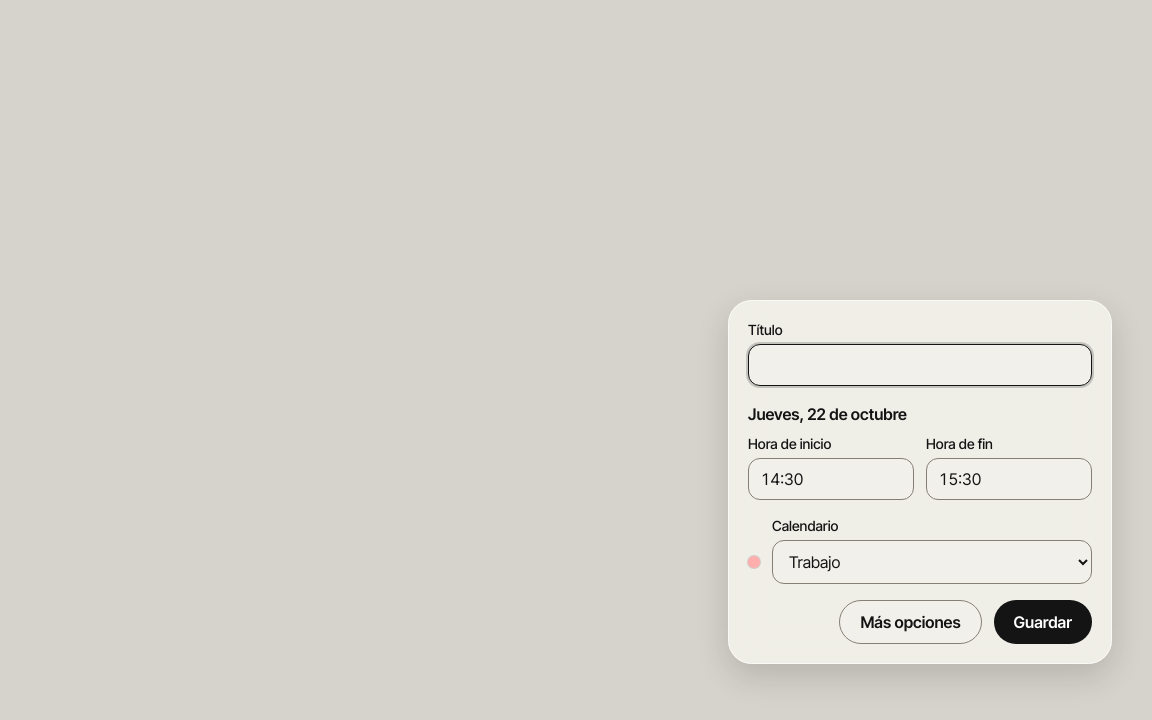
Scenario: QuickCreate › stays open with the error when saving fails (RF-9)
Click the button "Guardar" at (1043, 622), box top-left (994, 600), bottom-right (1092, 644)
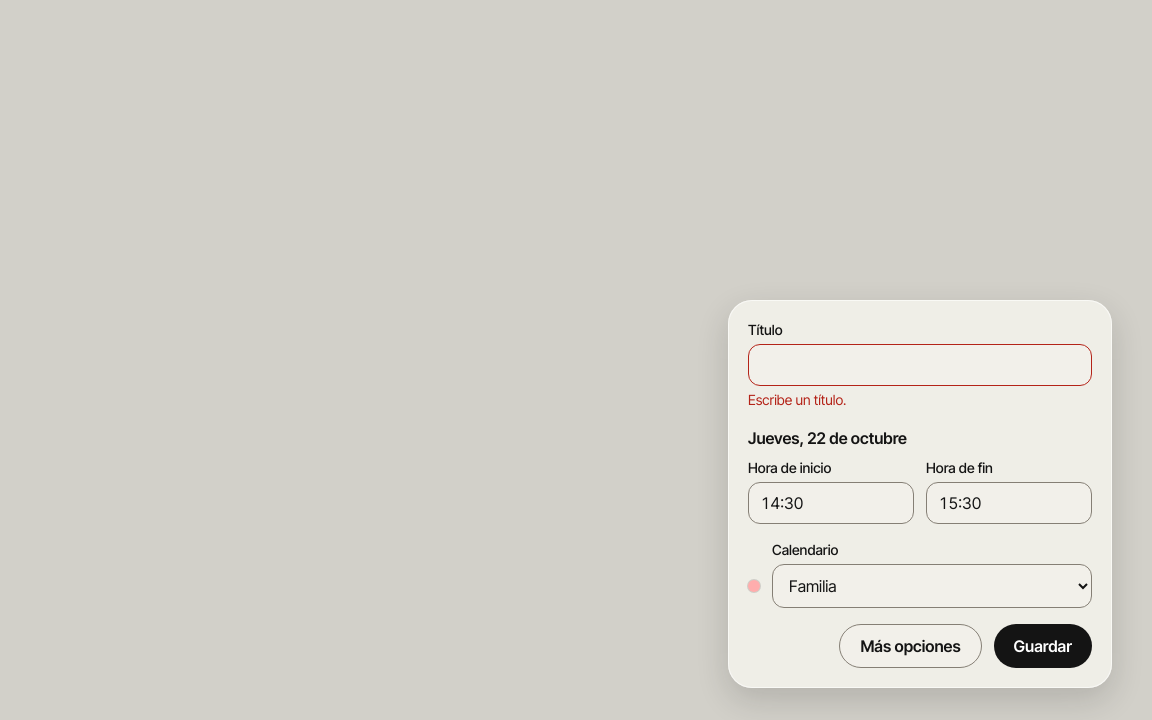
Result: the text "Escribe un título." is shown at top-left (748, 391), bottom-right (846, 408)
